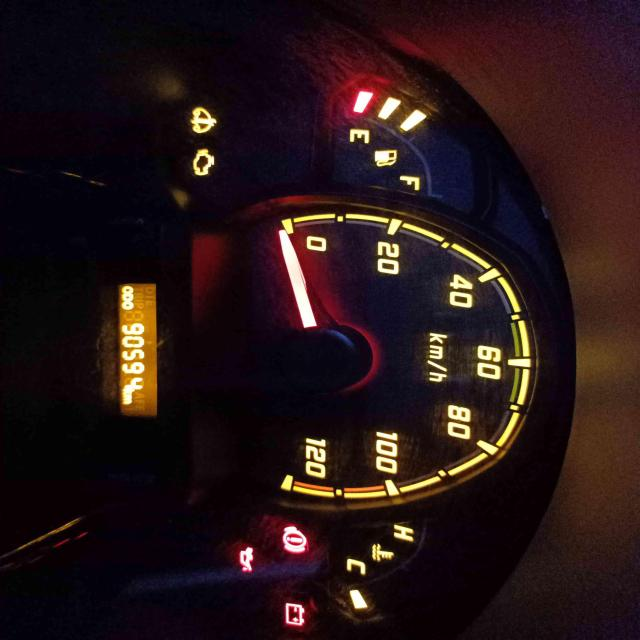Braking System Issue: (282, 526, 310, 554)
Charging System Issue: (284, 602, 305, 628)
Check Engine: (192, 148, 215, 176)
Low Engine Oil Warning Light: (238, 546, 256, 572)
